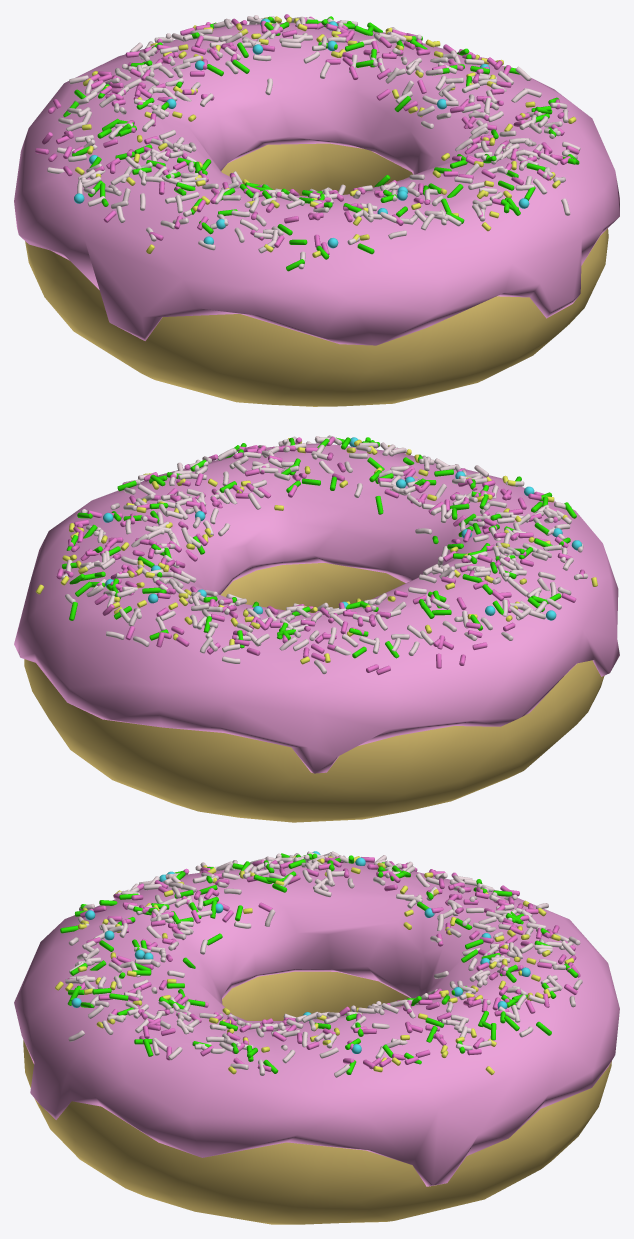
Rendered from Krofna.fbx.
3 views of the same model, one above another, from view 1: azimuth 30°, elevation 25°; view 2: azimuth 150°, elevation 25°; view 3: azimuth 270°, elevation 25° (orthographic). The views are drawn at different scales.
Parts seen in each view (by area): view 1: Icing, Donut; view 2: Icing, Donut; view 3: Icing, Donut.
Part boxes in pixels (x1=…): Icing: x1=14, y1=23, x2=619, y2=345; Donut: x1=25, y1=143, x2=608, y2=406; Icing: x1=14, y1=443, x2=619, y2=773; Donut: x1=24, y1=476, x2=604, y2=822; Icing: x1=14, y1=859, x2=619, y2=1186; Donut: x1=23, y1=971, x2=611, y2=1224.
Size of the model in its own units: 14.08 by 5.27 by 14.63.
